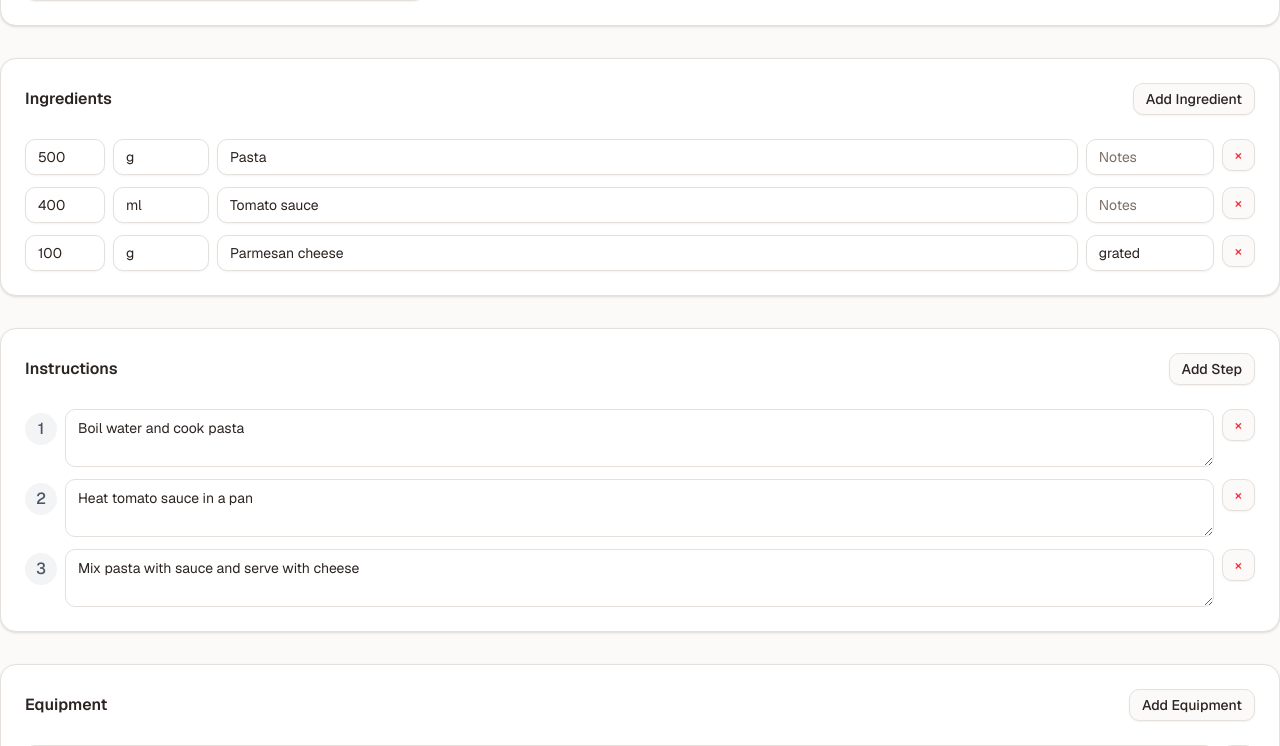
Test: RecipeForm › adds new instruction step when add button clicked
(page scrolled)
What coordinates should you click on to do the following:
click the button "Add Step"
I would click on:
 (1212, 369)
Its box is top-left (1168, 353), bottom-right (1255, 385).
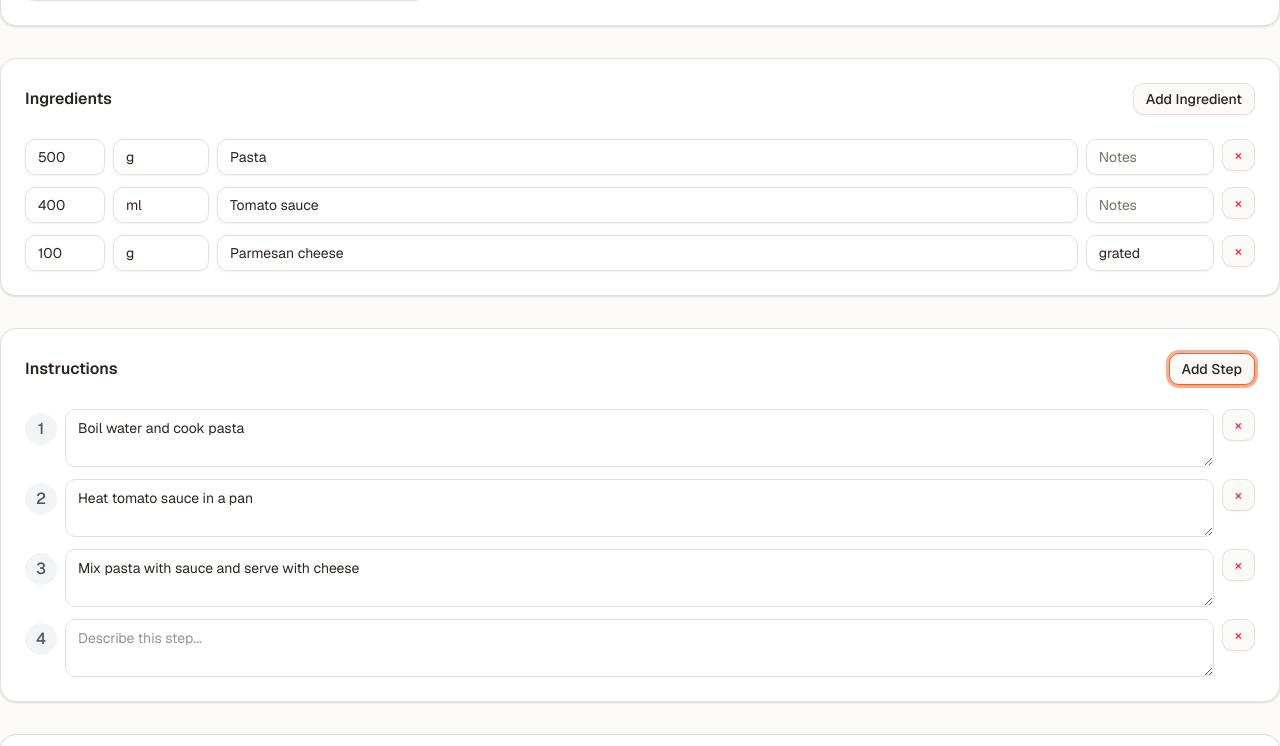
Now the number of text boxes with placeholder "Describe this step..." is 4, box top-left (65, 409), bottom-right (1214, 467); top-left (65, 479), bottom-right (1214, 537); top-left (65, 549), bottom-right (1214, 607); top-left (65, 619), bottom-right (1214, 677)
